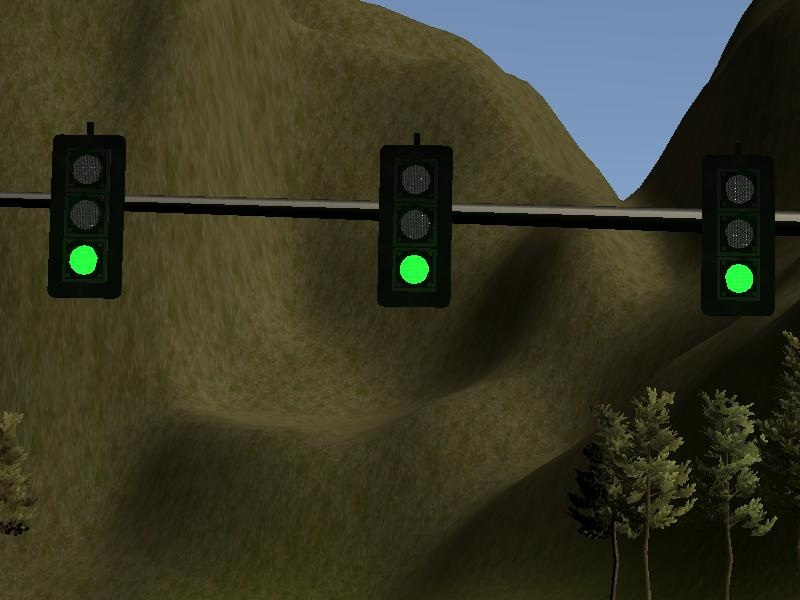GREEN: (48, 134, 122, 297), (375, 143, 449, 306), (700, 152, 774, 315)
